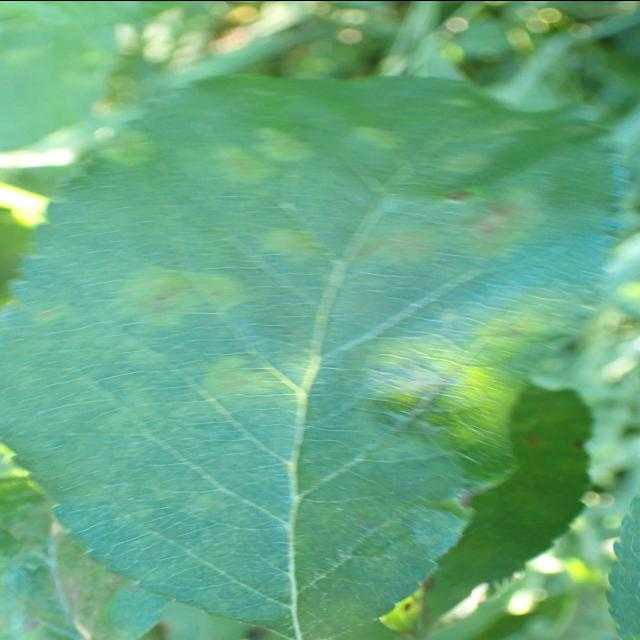diseased: (0, 84, 610, 639)
